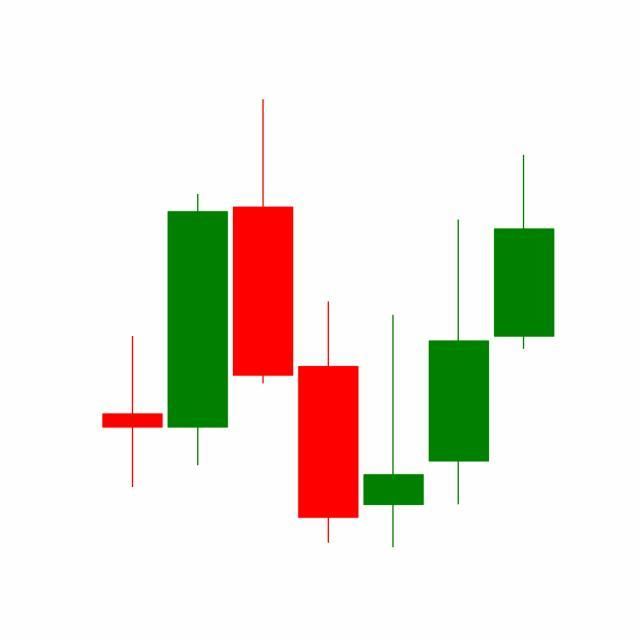Three Inside Up-Down: (295, 216, 492, 549)
